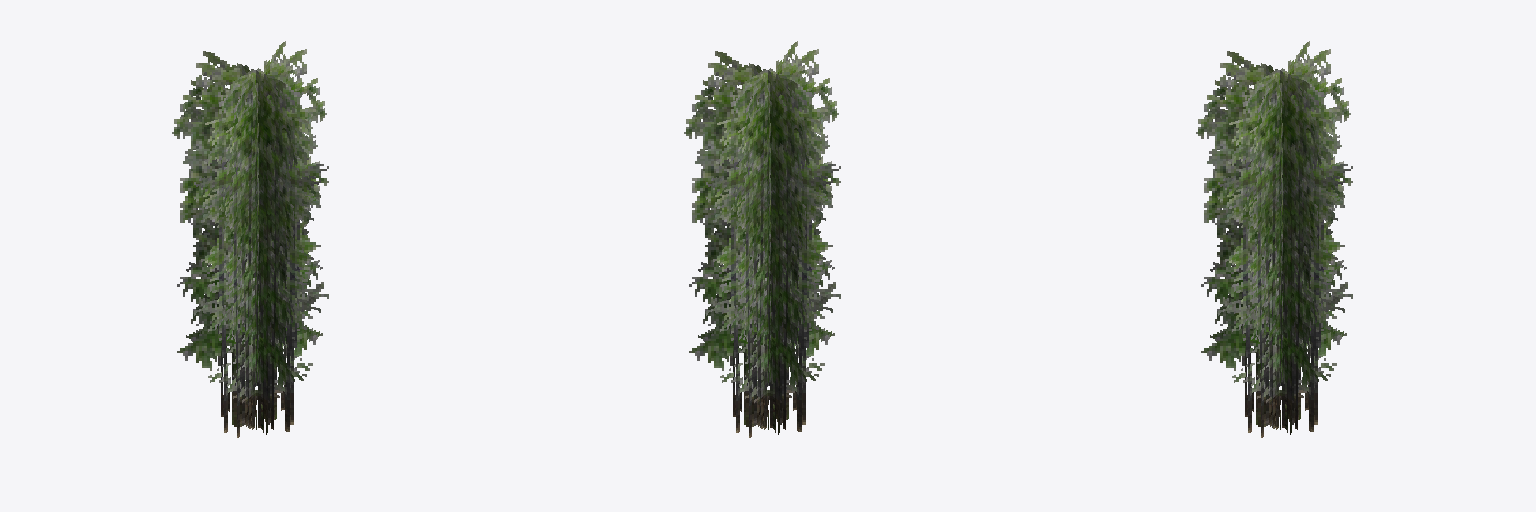
3 renders of one model, left to right at view 1: azimuth 30°, elevation 25°; view 2: azimuth 150°, elevation 25°; view 3: azimuth 270°, elevation 25°, orthographic.
Visible parts, largest first — view 1: bamboopixel.002, bamboopixel.001; view 2: bamboopixel.002, bamboopixel.001; view 3: bamboopixel.002, bamboopixel.001.
Boxes of the visible parts, <box> form: bamboopixel.002: <box>172,41,328,437</box>; bamboopixel.001: <box>181,49,326,432</box>; bamboopixel.002: <box>684,41,840,437</box>; bamboopixel.001: <box>693,49,838,432</box>; bamboopixel.002: <box>1196,41,1352,437</box>; bamboopixel.001: <box>1205,49,1350,432</box>.
Size of the model in its own units: 0.3972 by 1 by 0.3975.
1 materials, 1 textured.